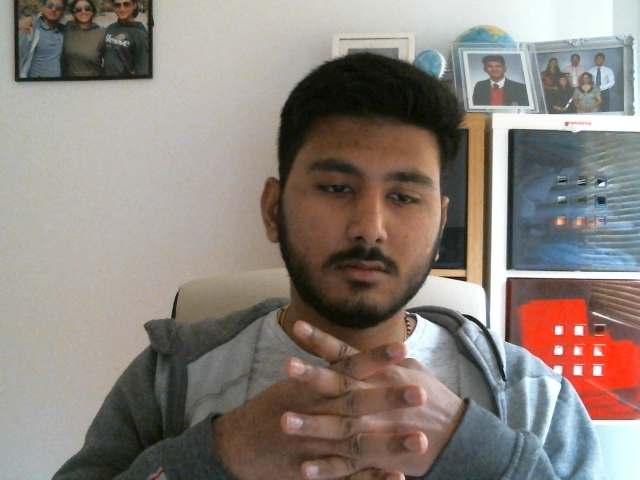how: (264, 320, 431, 480)
